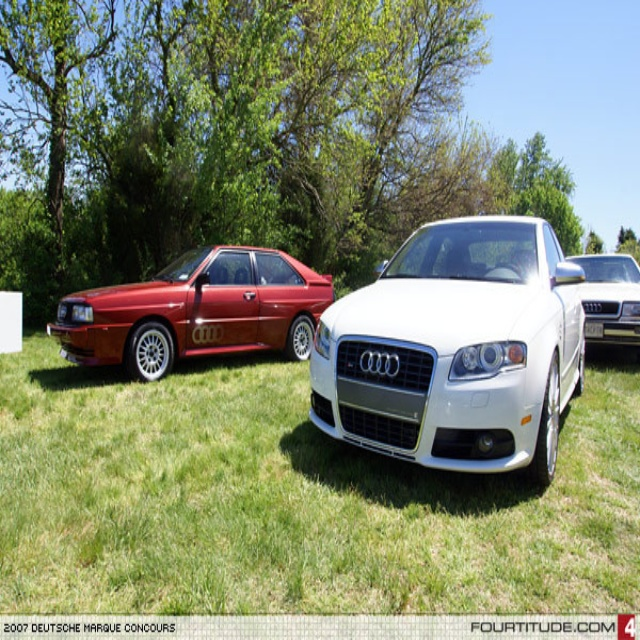Car: (307, 214, 585, 486), (46, 245, 334, 381), (562, 254, 640, 357)
